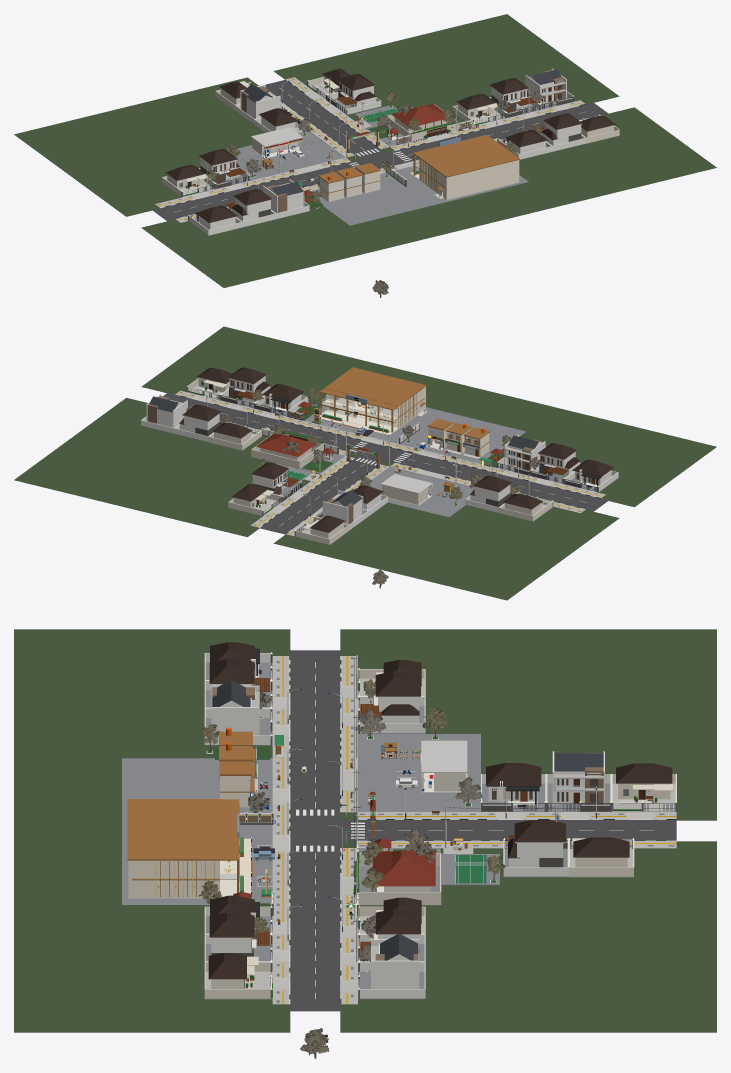
Rendered from gabungan.glb.
3 renders of one model, top to bottom at view 1: azimuth 30°, elevation 25°; view 2: azimuth 150°, elevation 25°; view 3: azimuth 270°, elevation 25°, orthographic. The views are drawn at different scales.
Parts seen in each view (by area): view 1: City_Master_Ground_South, City_Master_Ground_NW, City_Master_Ground_NE, Floor_Jalan_Raya_Utama, Floor_Parkiran_Resto_Dan_Ruko, Floor_Jalan_Simpang_Utara, Resto_Atap_Dak_Utama, Floor_Parkiran_Indomaret, Resto_Dinding_Belakang, Indo_Roof_Slab, SoloHouse_Limasan_Base, Resto_Dinding_Kanan_Depan; view 2: City_Master_Ground_South, City_Master_Ground_NE, City_Master_Ground_NW, Floor_Jalan_Raya_Utama, Floor_Parkiran_Resto_Dan_Ruko, Floor_Jalan_Simpang_Utara, Resto_Atap_Dak_Utama, Floor_Parkiran_Indomaret, SoloHouse_Limasan_Base, Indo_Roof_Slab, Resto_Fondasi_Lantai_1, Indo_Main_Walls (+3 smaller); view 3: City_Master_Ground_South, City_Master_Ground_NE, City_Master_Ground_NW, Floor_Jalan_Raya_Utama, Floor_Parkiran_Resto_Dan_Ruko, Floor_Parkiran_Indomaret, Resto_Atap_Dak_Utama, Floor_Jalan_Simpang_Utara, Resto_Dinding_Kiri, SoloHouse_Limasan_Base, Indo_Roof_Slab, House_NE_3_Box_SideWall_Right (+25 smaller).
Boxes of the visible parts, x1,y1,x2,y2 form: City_Master_Ground_South: (141,107,716,287); City_Master_Ground_NW: (14,77,359,216); City_Master_Ground_NE: (274,14,619,152); Floor_Jalan_Raya_Utama: (152,102,608,221); Floor_Parkiran_Resto_Dan_Ruko: (311,166,528,225); Floor_Jalan_Simpang_Utara: (265,80,385,159); Resto_Atap_Dak_Utama: (418,138,519,177); Floor_Parkiran_Indomaret: (228,131,344,180); Resto_Dinding_Belakang: (446,160,519,199); Indo_Roof_Slab: (251,127,303,146); SoloHouse_Limasan_Base: (391,104,445,127); Resto_Dinding_Kanan_Depan: (419,158,440,194); City_Master_Ground_South: (141,326,716,507); City_Master_Ground_NE: (14,398,359,536); City_Master_Ground_NW: (273,461,619,600); Floor_Jalan_Raya_Utama: (163,393,608,511); Floor_Parkiran_Resto_Dan_Ruko: (303,406,525,463); Floor_Jalan_Simpang_Utara: (260,454,385,534); Resto_Atap_Dak_Utama: (324,367,426,406); Floor_Parkiran_Indomaret: (370,467,474,517); SoloHouse_Limasan_Base: (256,433,315,456); Indo_Roof_Slab: (380,474,432,493); Resto_Fondasi_Lantai_1: (322,404,425,432); Indo_Main_Walls: (382,485,427,504); City_Master_Ground_South: (14,629,290,1032); City_Master_Ground_NE: (340,841,716,1032); City_Master_Ground_NW: (340,629,716,820); Floor_Jalan_Raya_Utama: (290,650,340,1011); Floor_Parkiran_Resto_Dan_Ruko: (122,758,272,904); Floor_Parkiran_Indomaret: (358,734,480,811); Resto_Atap_Dak_Utama: (127,799,222,860); Floor_Jalan_Simpang_Utara: (340,820,676,841); Resto_Dinding_Kiri: (128,860,219,897); SoloHouse_Limasan_Base: (372,851,435,886); Indo_Roof_Slab: (421,740,467,772); House_NE_3_Box_SideWall_Right: (371,960,419,988).
Bounding box in the file's own units: 190 × 59.98 × 140.
Materials: 285 (48 with a texture image).
